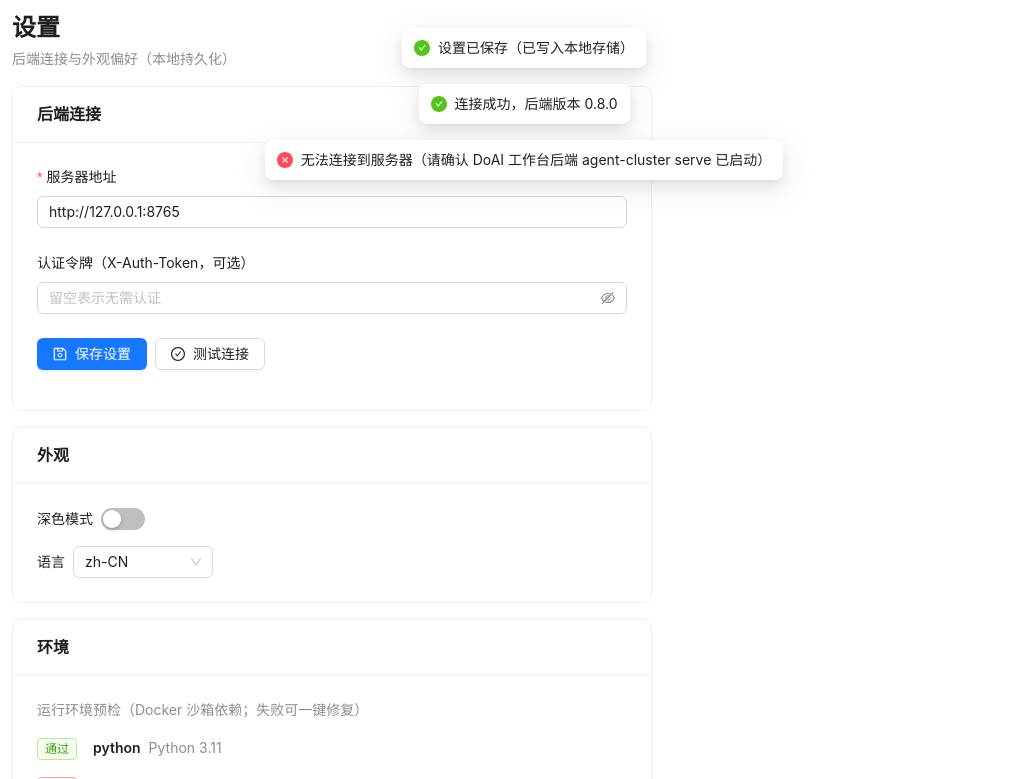
Scenario: Settings 页面 › 非法地址校验阻止保存
The image size is (1036, 779).
Step 1. Type "not-a-url" into the field with test id "server-url-input" → (332, 212), box [37,196,627,228]
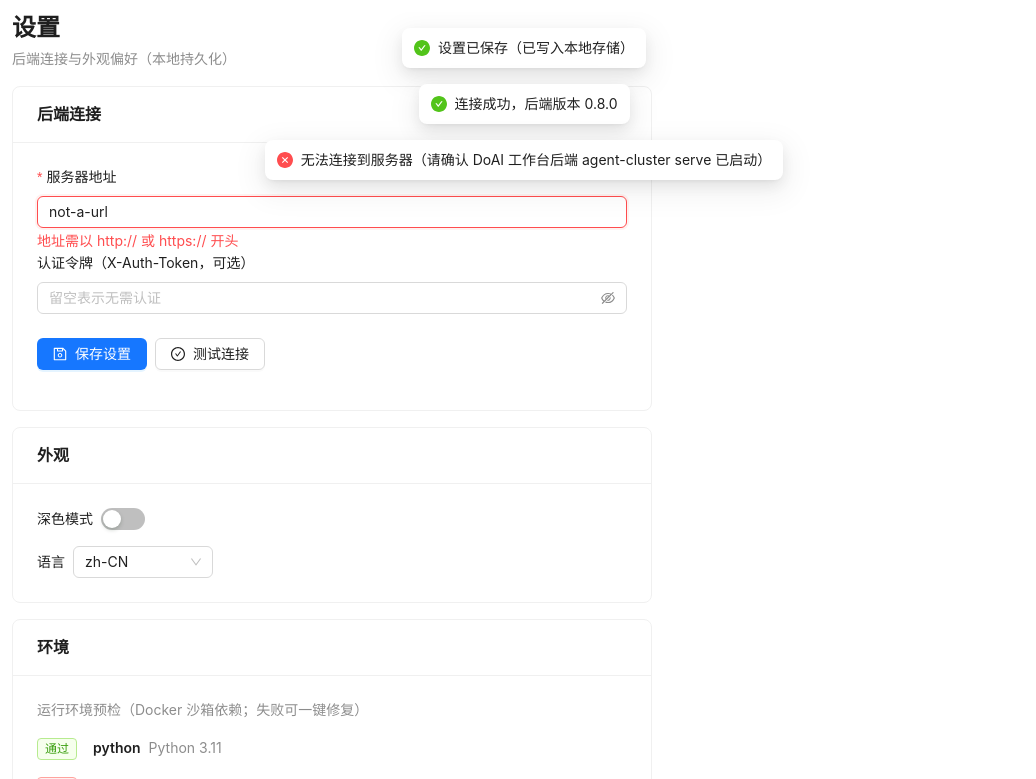
Step 2. Click the button with test id "save-settings-btn" → (92, 354), box [37,338,147,370]
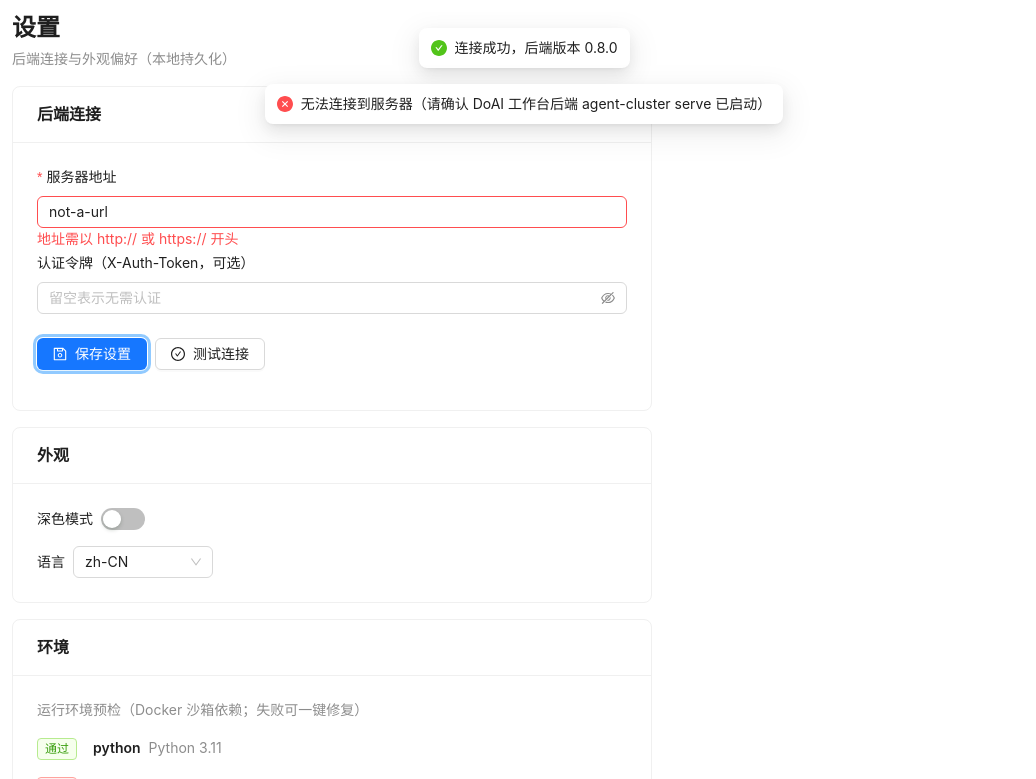
expect the text "地址需以 http:// 或 https:// 开头" is shown: met, box [37,230,238,247]
